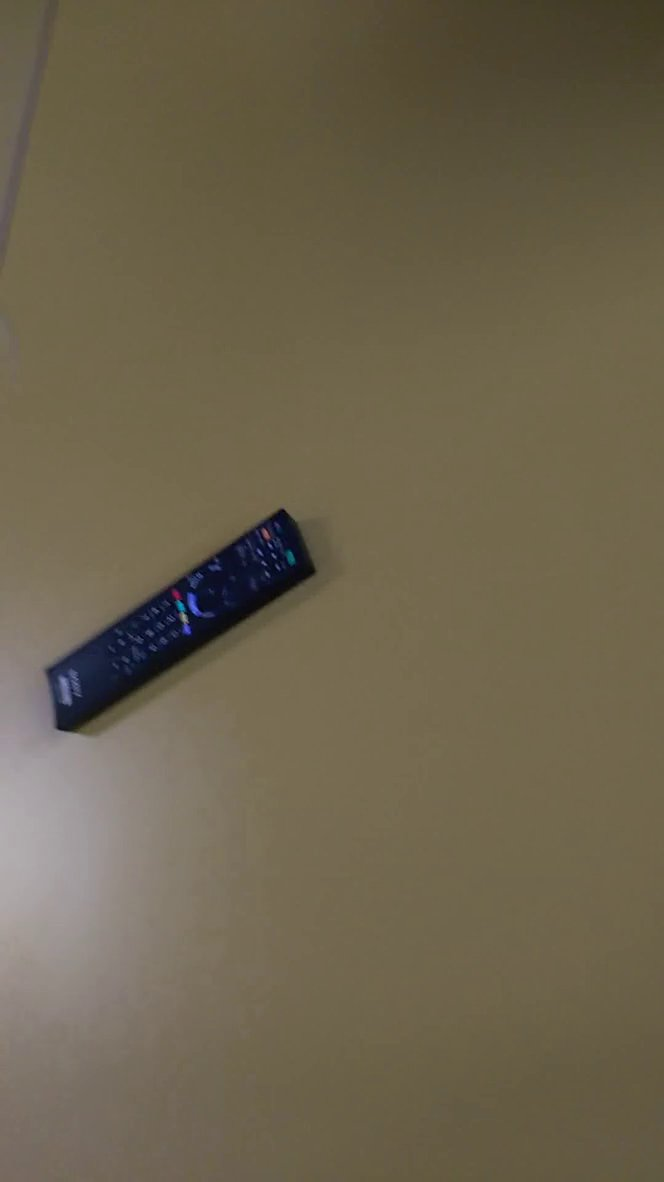remote: (35, 498, 327, 758)
